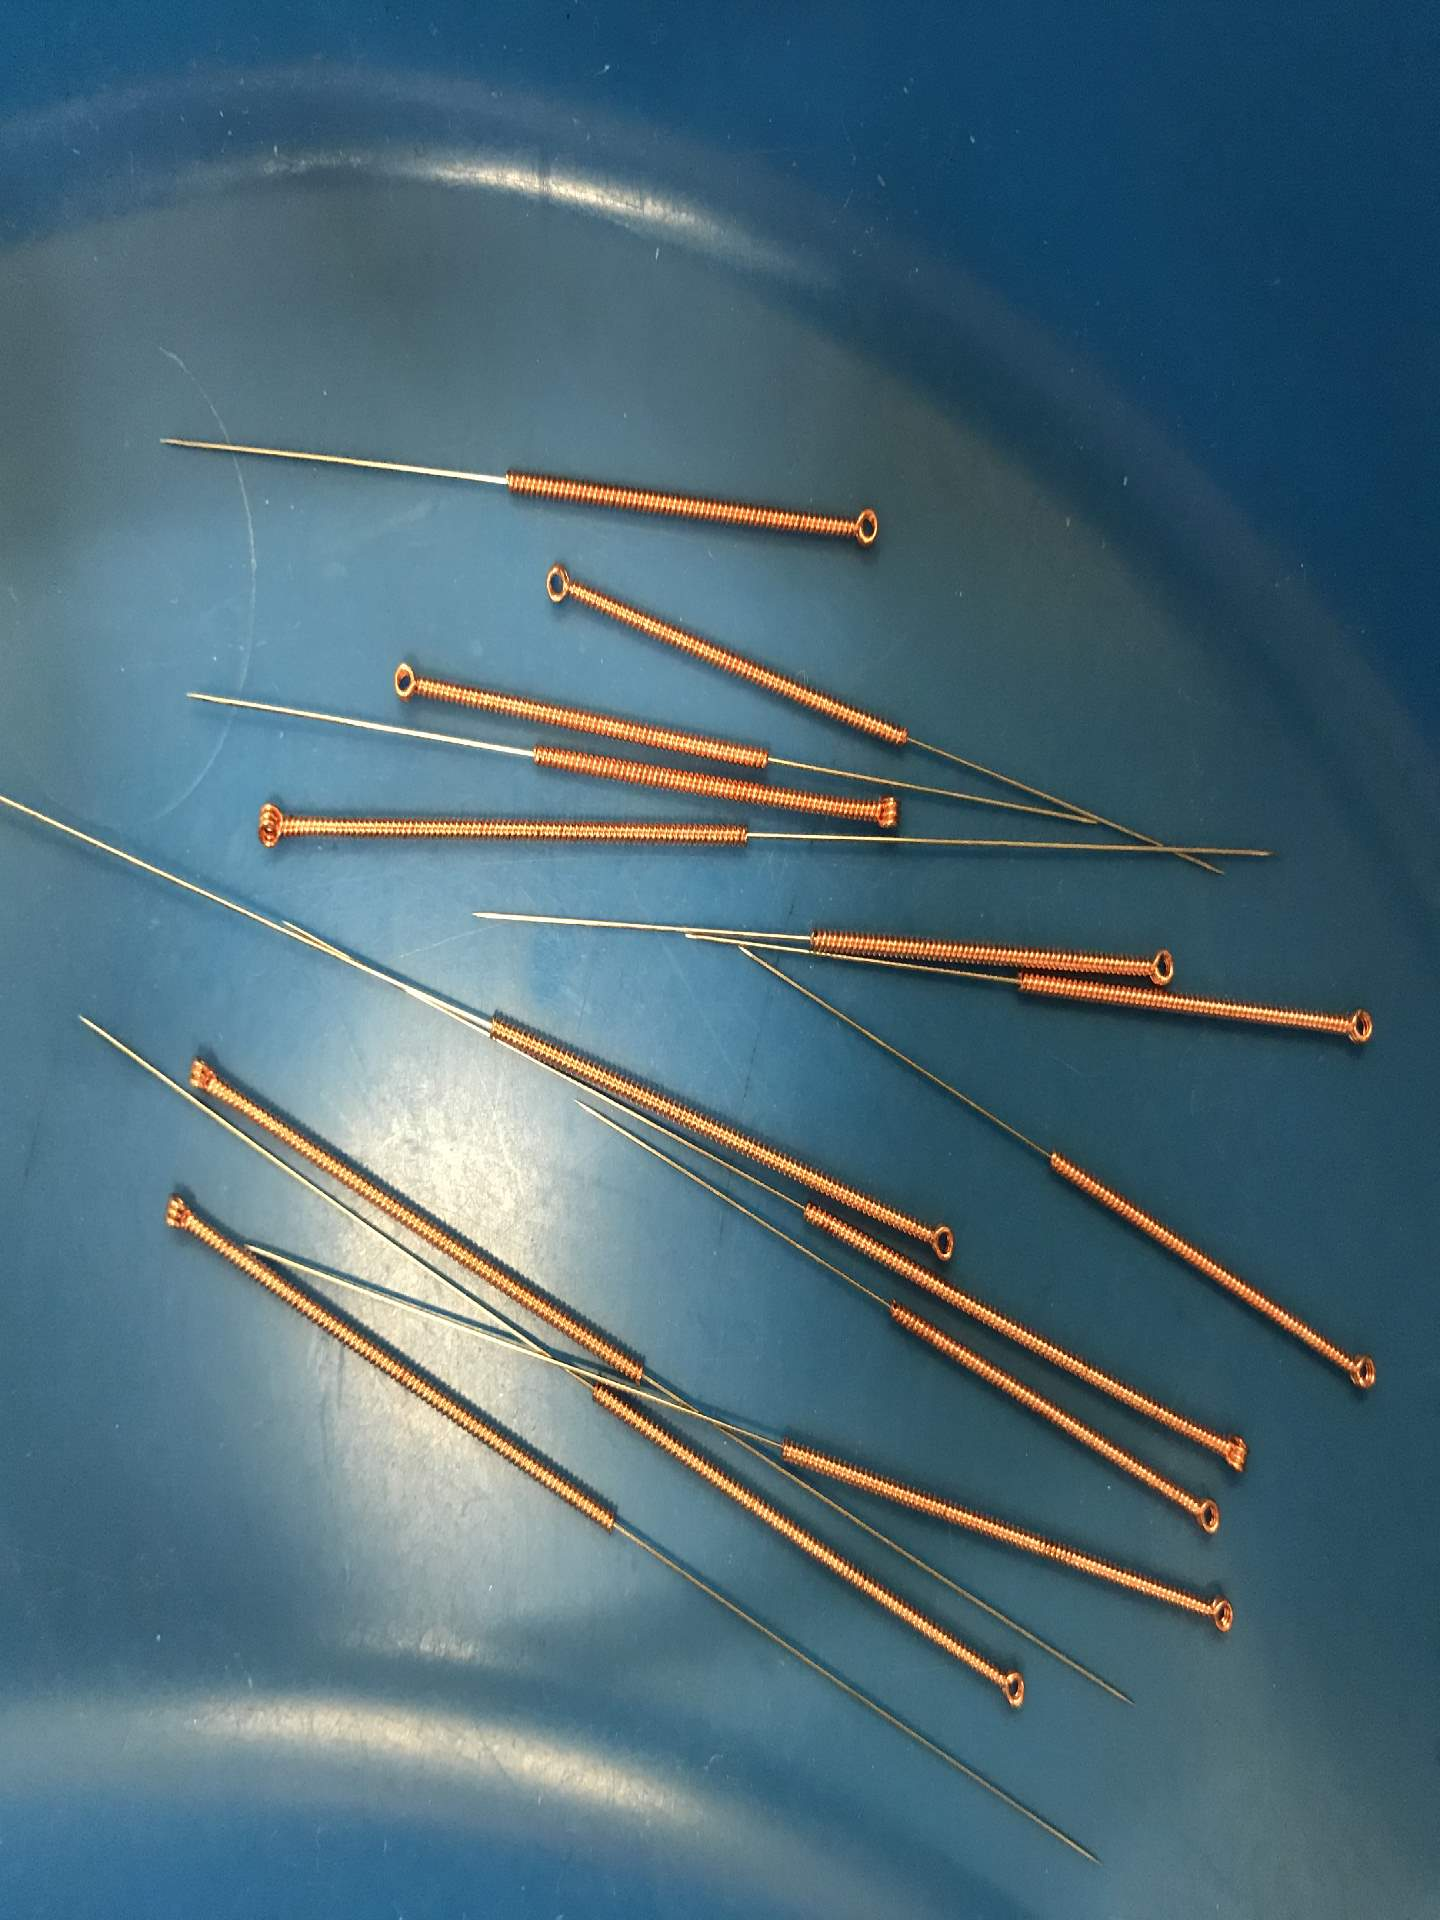needle: (824, 494, 895, 565), (1196, 1414, 1265, 1488), (237, 791, 309, 859), (147, 1176, 212, 1250), (523, 553, 593, 621), (976, 1654, 1044, 1722), (1186, 1581, 1249, 1649), (1330, 1336, 1390, 1407), (1171, 1485, 1236, 1548), (374, 652, 440, 712), (177, 1037, 231, 1108), (1324, 998, 1386, 1060), (908, 1206, 965, 1268), (849, 786, 911, 839), (1124, 937, 1183, 990)
